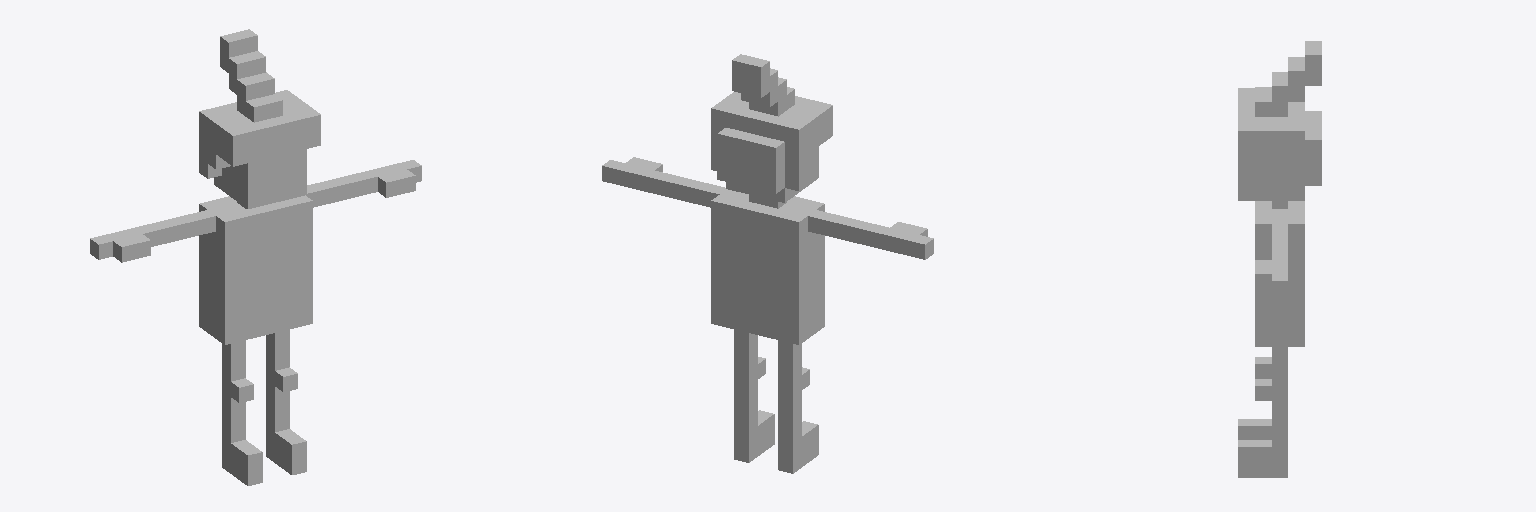
File: warrior.obj
3 renders of one model, left to right at view 1: azimuth 30°, elevation 25°; view 2: azimuth 150°, elevation 25°; view 3: azimuth 270°, elevation 25°, orthographic.
Parts seen in each view (by area): view 1: object 1; view 2: object 1; view 3: object 1.
Boxes of the visible parts, x1,y1,x2,y2 form: object 1: [90, 29, 421, 485]; object 1: [602, 54, 933, 473]; object 1: [1238, 41, 1321, 477].
Size of the model in its own units: 2.2 by 2.7 by 0.5.